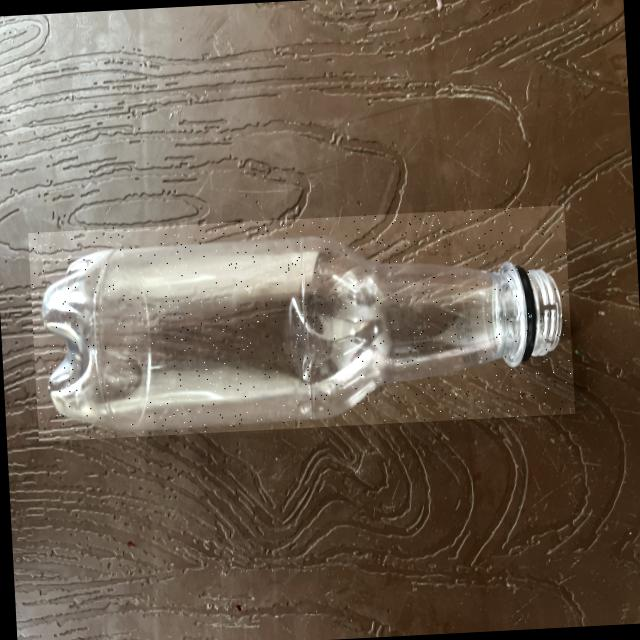PET_With_Cap: (27, 204, 574, 442)
